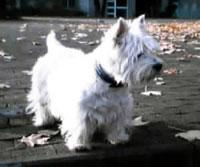wire-haired_fox_terrier: (24, 15, 164, 151)
